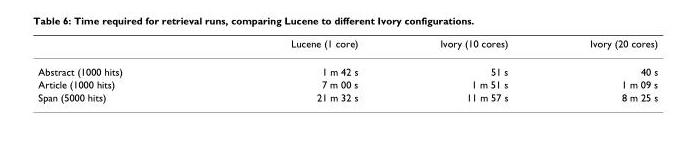table: (37, 37, 657, 102)
table column: (206, 37, 398, 102), (37, 37, 206, 102), (398, 37, 548, 102), (548, 37, 657, 102)
table column header: (37, 37, 657, 57)
table row: (37, 37, 657, 57), (37, 57, 657, 77), (37, 77, 657, 90), (37, 90, 657, 102)
